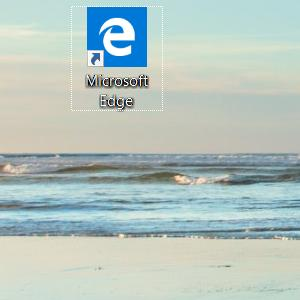edge: (87, 7, 147, 67)
